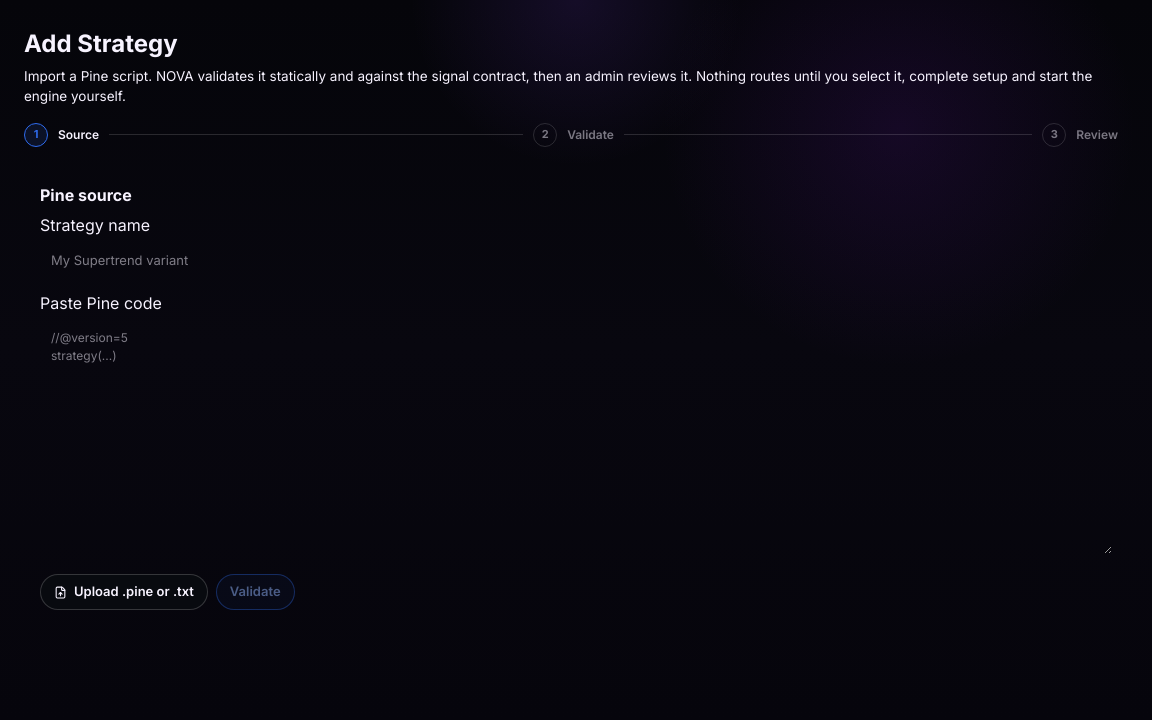
Test: AddStrategyPage › blocks submission when static validation failed
Type "Mine" into the field labelled "Strategy name" at (576, 260), box [40,242,1112,279]
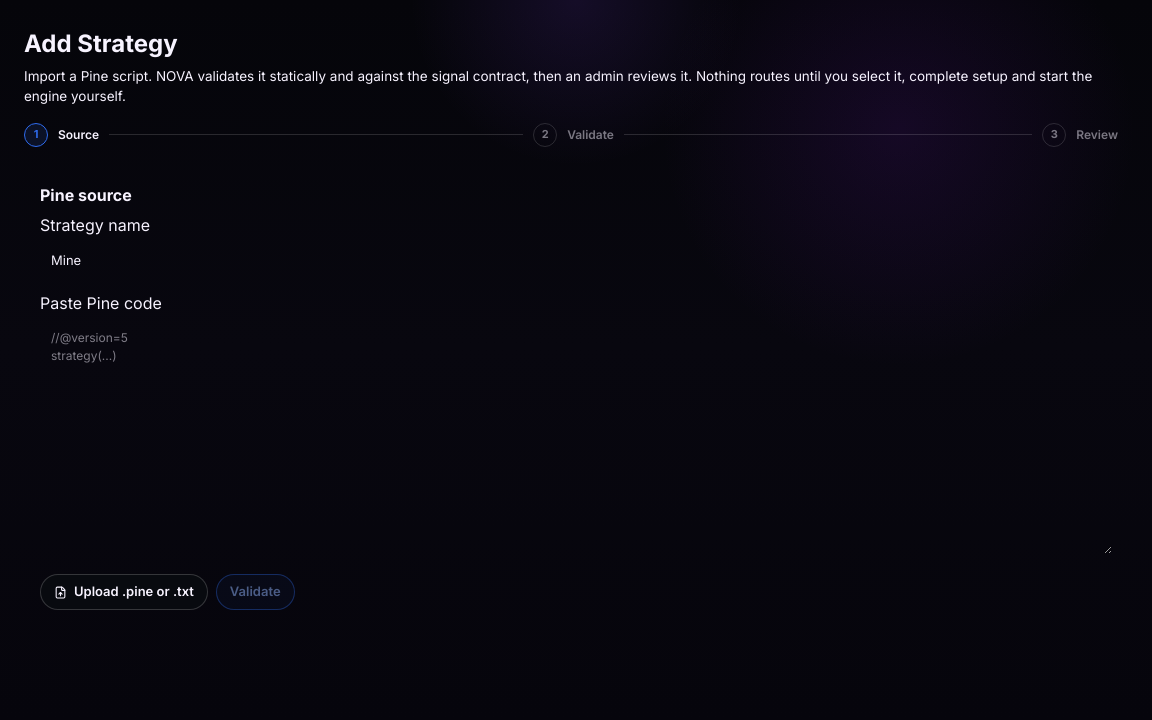
Type "//@version=5" into the text box labelled "Paste Pine code" at (576, 437), box [40,320,1112,554]
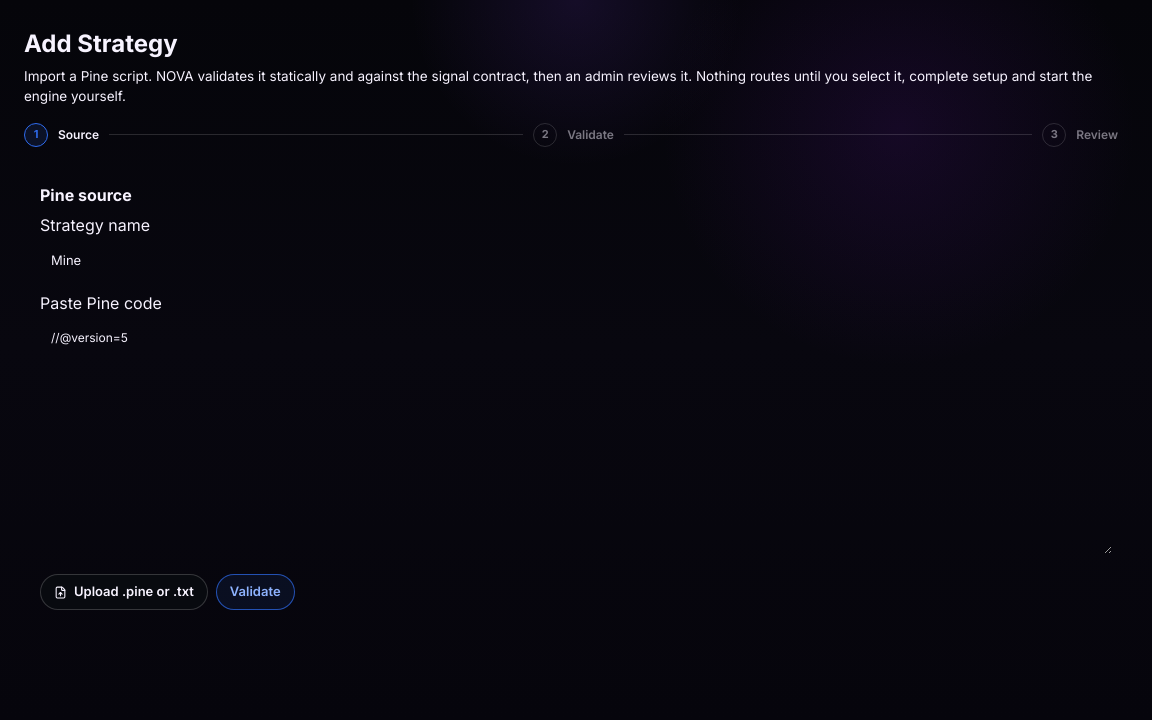
Click the button "Validate" at (255, 592), box [216,574,294,610]
(page scrolled)
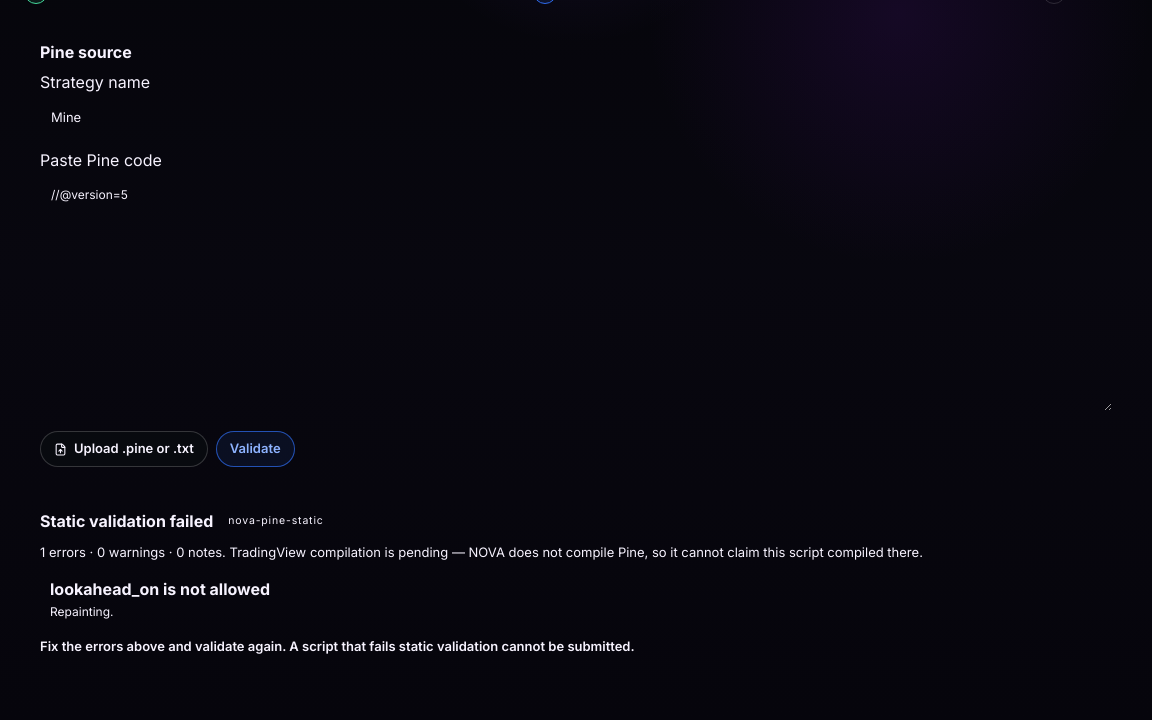
Check: the text "Static validation failed" is shown, box [40,509,213,533]
Check: the text "lookahead_on is not allowed" is shown, box [50,578,270,598]
